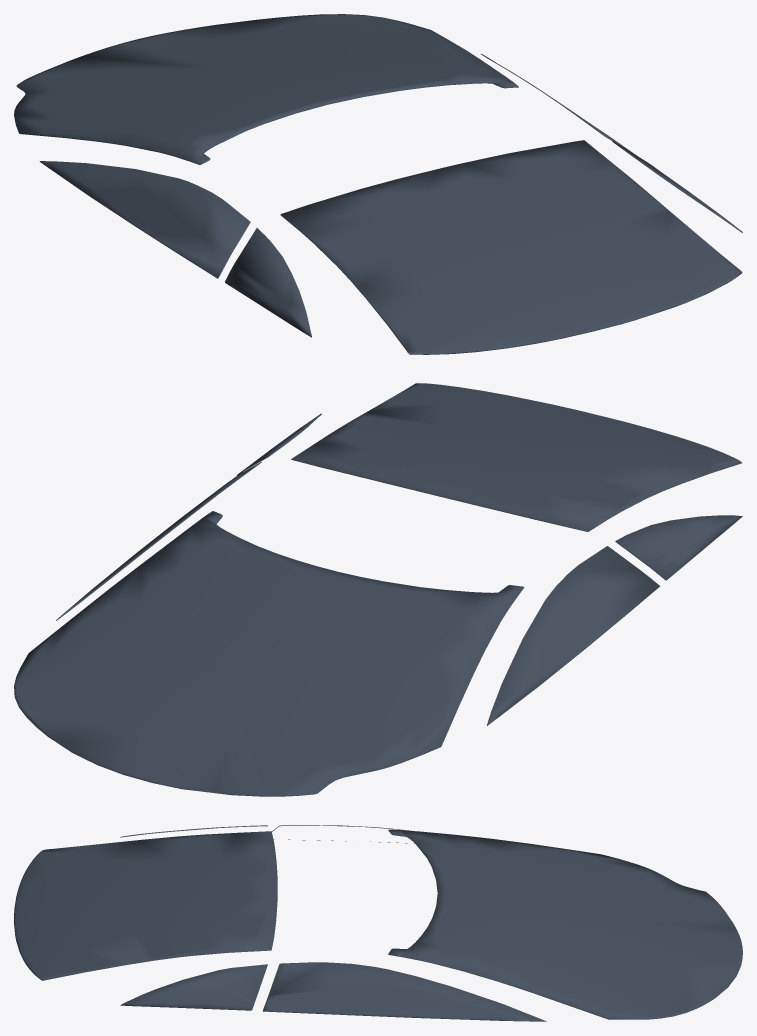
The model's file is car_glass.glb.
The picture shows the model from 3 angles, top to bottom: view 1: azimuth 30°, elevation 25°; view 2: azimuth 150°, elevation 25°; view 3: azimuth 270°, elevation 25°; orthographic projection. The views are drawn at different scales.
Bounding box in the file's own units: 1.87 × 0.3283 × 3.31.
